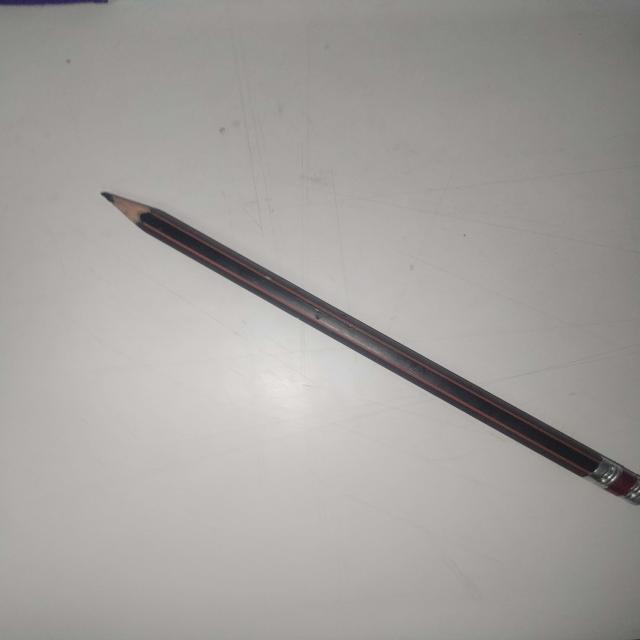pen_pencil: (57, 155, 640, 537)
